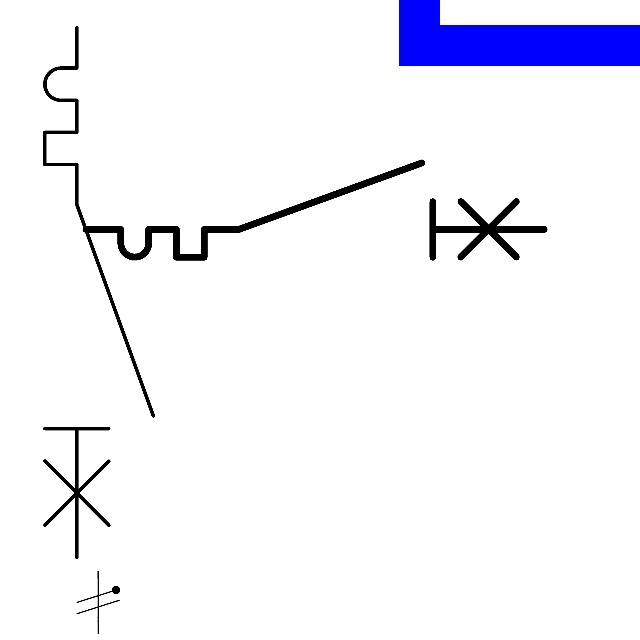interruptor_termomagnetico: (31, 14, 167, 571), (74, 151, 556, 269)
